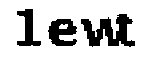1: (14, 5, 41, 50)
e: (44, 15, 77, 50)
t: (116, 11, 140, 54)
w: (79, 17, 121, 48)
